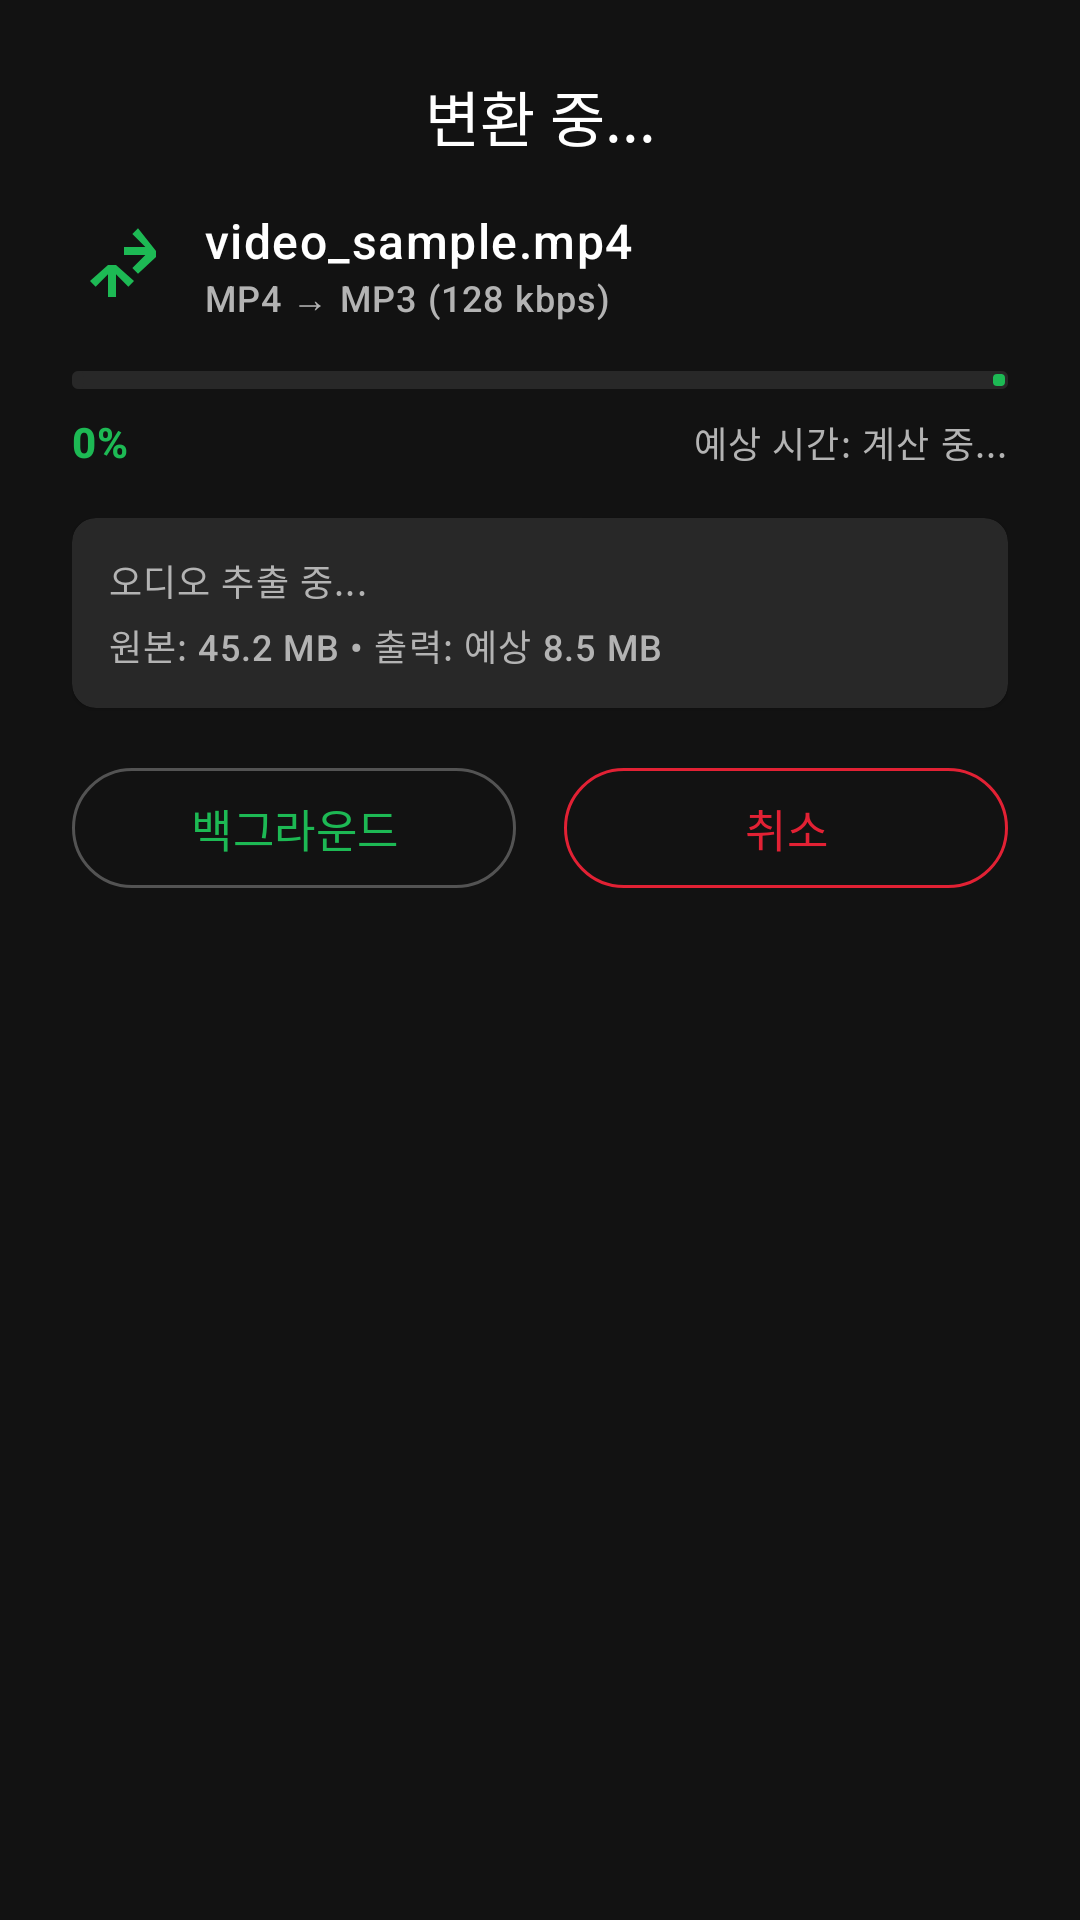

Screen size 1080px×1920px. Icon name, then its center in pixels as point (x, y):
convert: point (123, 262)
